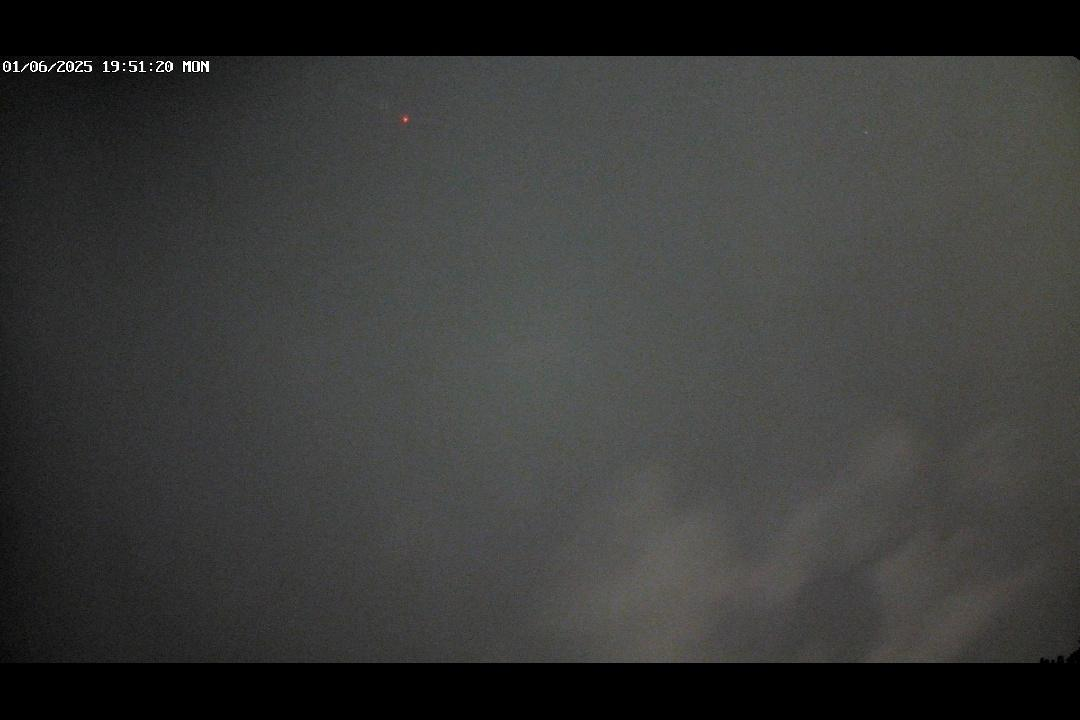Plane: (370, 99, 420, 126)
